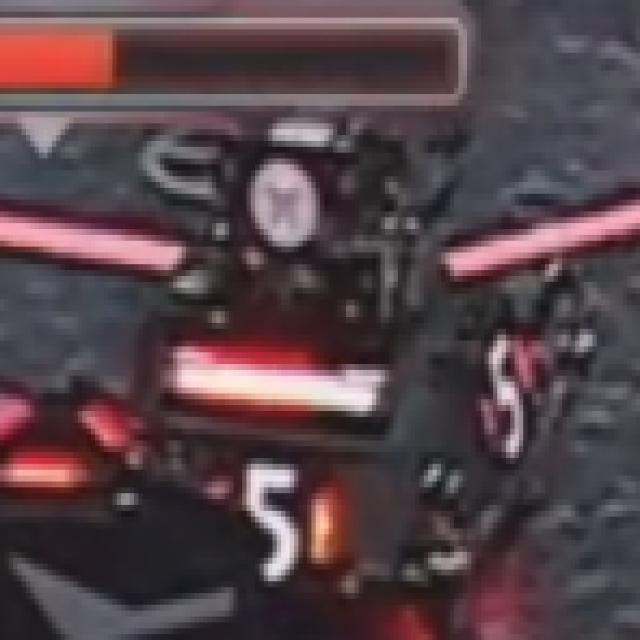R5: (467, 328, 541, 476)
